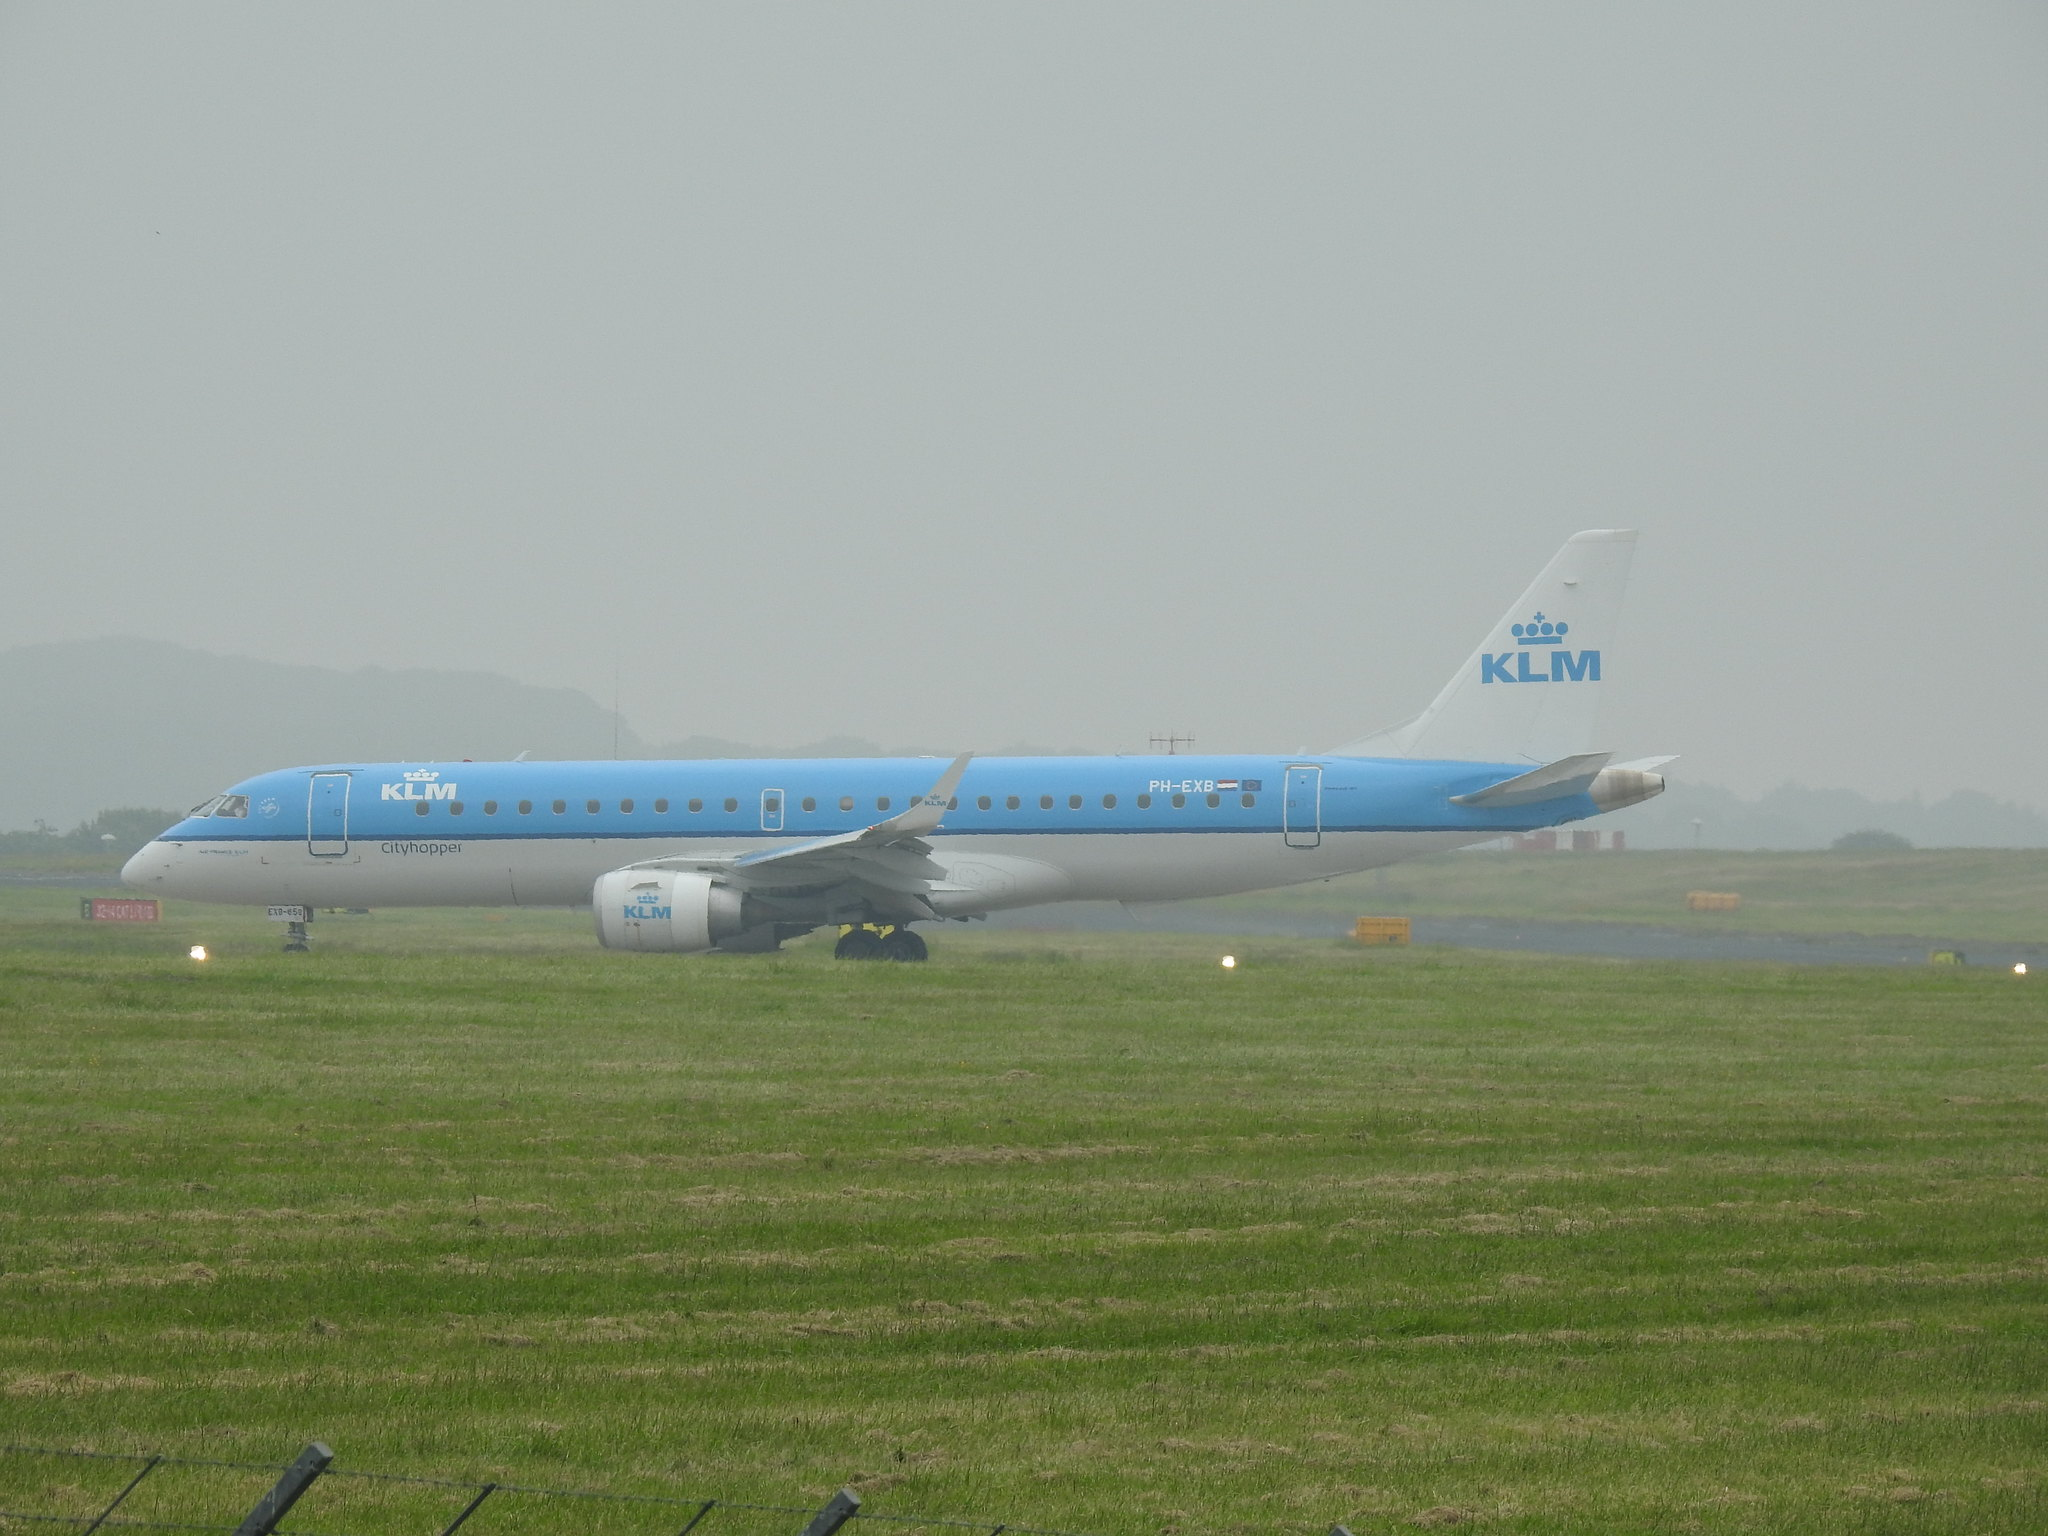aeroplane: (118, 528, 1696, 971)
